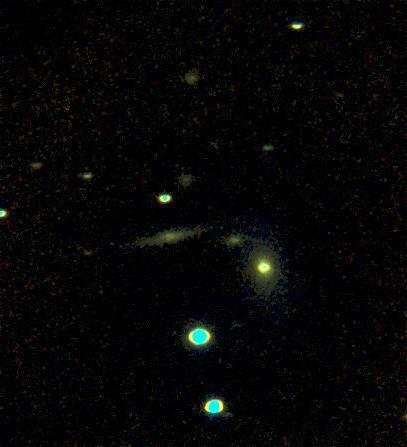star: (97, 227, 127, 257)
